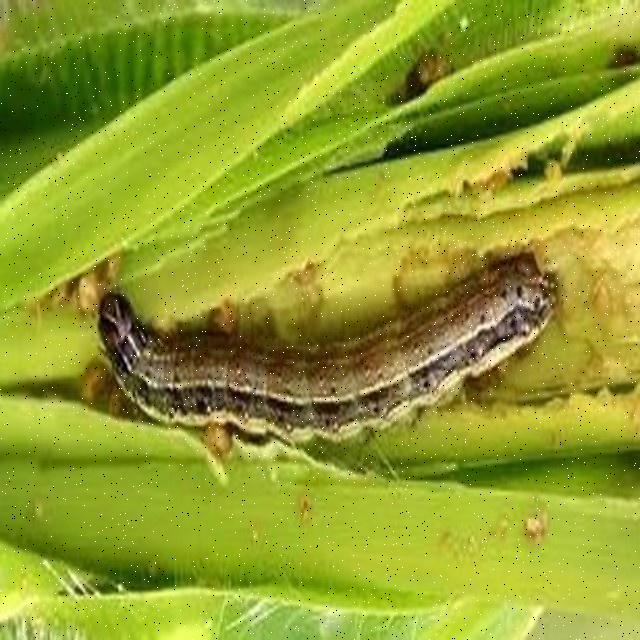worm: (91, 245, 560, 485)
